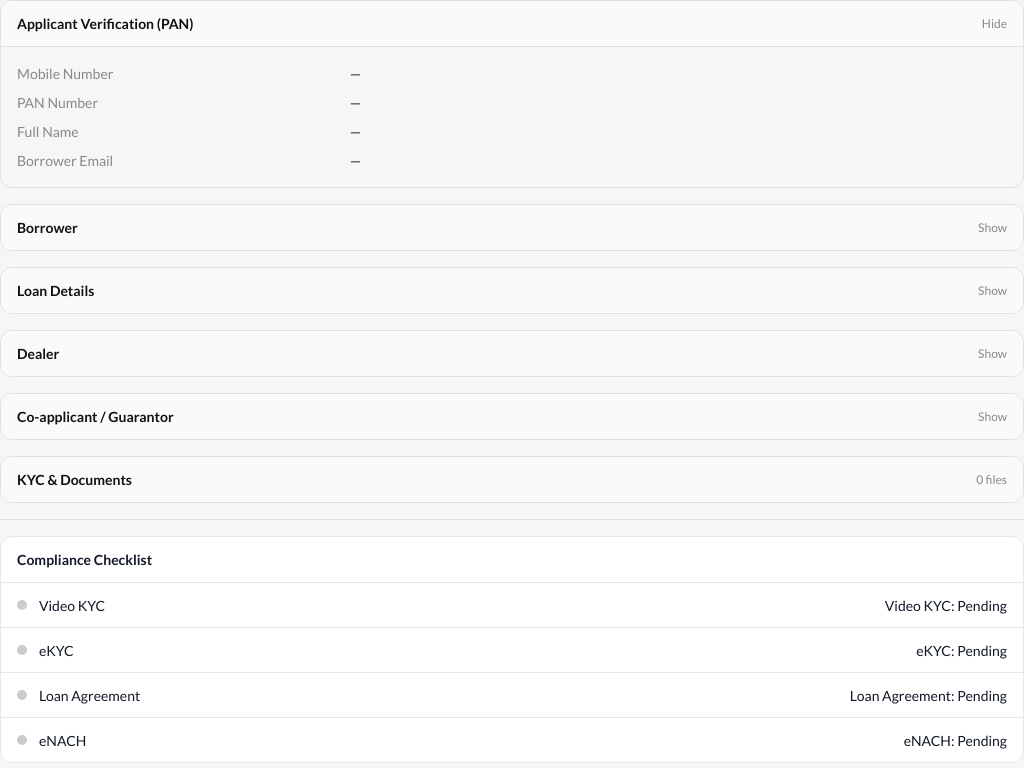
B2cEvApplicationReview › says no documents were uploaded when the KYC section is empty
Click the button "KYC & Documents 0 files". click: (74, 480)
box: [1, 457, 1023, 502]
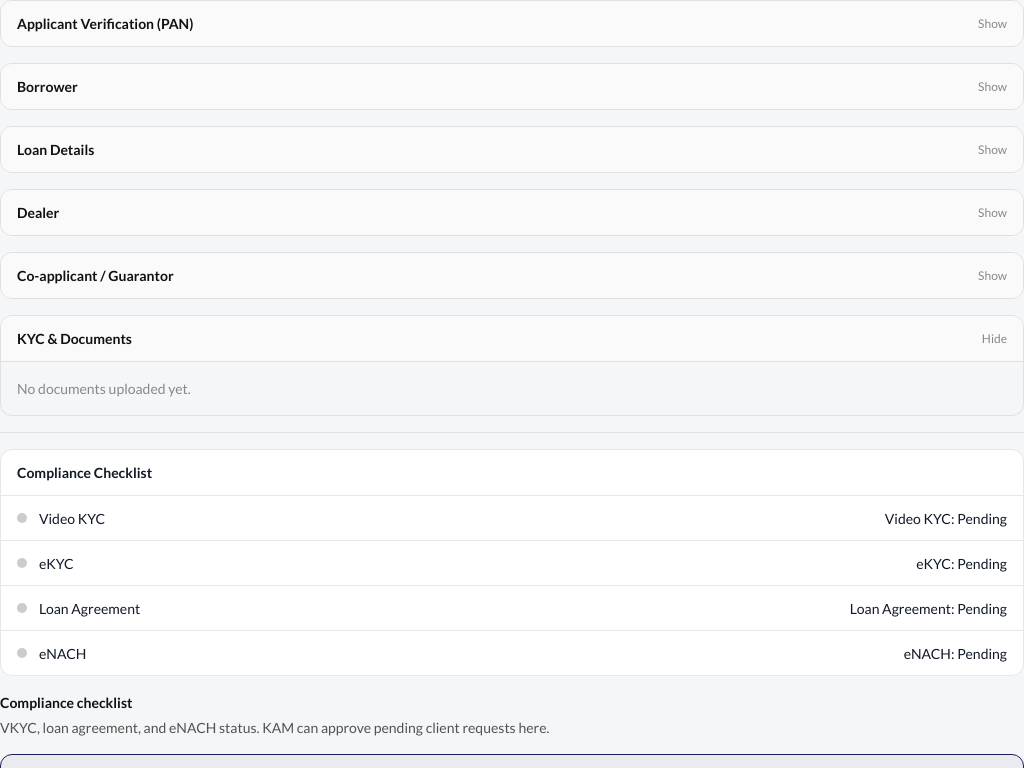
Now the text "No documents uploaded yet." is shown, box [17, 380, 191, 397]
